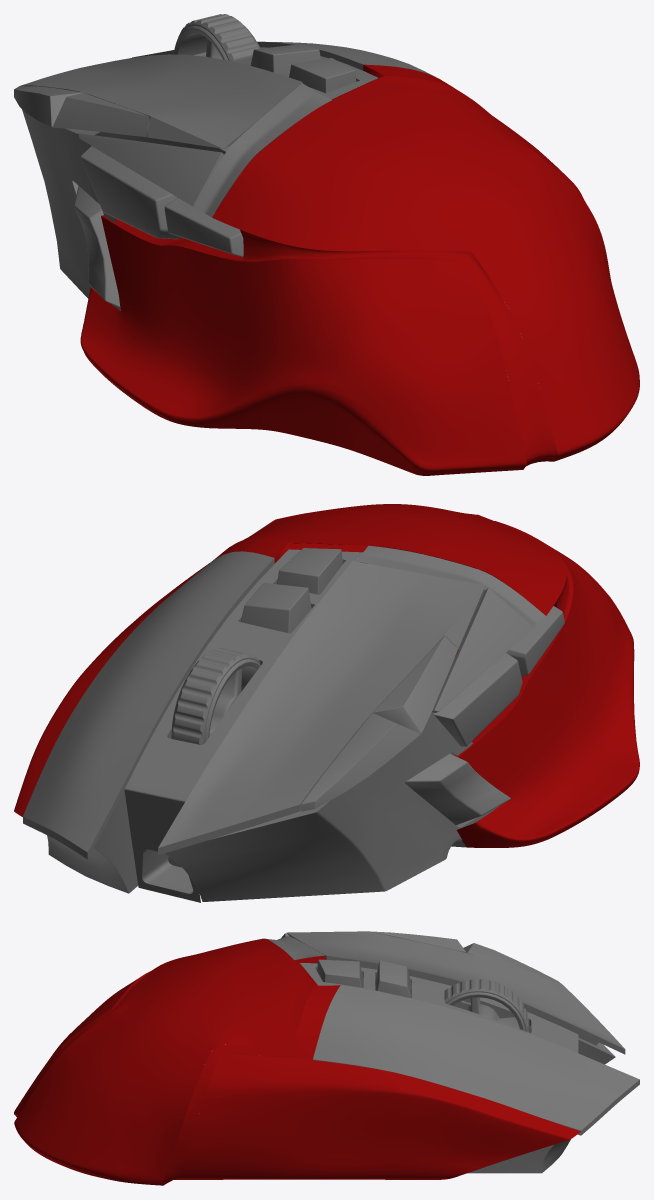
3 views of the same model, one above another, from view 1: azimuth 30°, elevation 25°; view 2: azimuth 150°, elevation 25°; view 3: azimuth 270°, elevation 25° (orthographic). The views are drawn at different scales.
Visible parts, largest first — view 1: Line005_Retopo, Object015, Line004, Line006, Box008, Box011, Object013, Button2, Box013, Box012, Object, Box005 (+6 smaller); view 2: Line004, Line005_Retopo, Line006, Line003, Object011, Object015, Box008, Button1, Box013, Box011, Line013, Button2 (+8 smaller); view 3: Object015, Box010, Line003, Line004, Line005_Retopo, Object011, Line013, Object, Box005, Box004, Button1, Button2 (+5 smaller).
Boxes of the visible parts, x1=… form: Line005_Retopo: x1=80, y1=64, x2=585, y2=475; Object015: x1=212, y1=76, x2=639, y2=461; Line004: x1=20, y1=54, x2=302, y2=148; Line006: x1=22, y1=109, x2=120, y2=310; Box008: x1=78, y1=133, x2=223, y2=206; Box011: x1=80, y1=146, x2=179, y2=239; Object013: x1=193, y1=83, x2=331, y2=217; Button2: x1=52, y1=93, x2=149, y2=136; Box013: x1=74, y1=186, x2=120, y2=307; Box012: x1=164, y1=198, x2=243, y2=257; Object: x1=176, y1=14, x2=259, y2=61; Box005: x1=289, y1=58, x2=356, y2=102; Line004: x1=158, y1=560, x2=485, y2=855; Line005_Retopo: x1=206, y1=521, x2=639, y2=847; Line006: x1=165, y1=712, x2=499, y2=901; Line003: x1=23, y1=551, x2=274, y2=859; Object011: x1=124, y1=549, x2=362, y2=902; Object015: x1=243, y1=504, x2=566, y2=615; Box008: x1=432, y1=587, x2=533, y2=712; Button1: x1=301, y1=713, x2=420, y2=811; Box013: x1=405, y1=753, x2=510, y2=825; Box011: x1=433, y1=653, x2=522, y2=746; Line013: x1=47, y1=790, x2=138, y2=893; Button2: x1=373, y1=636, x2=457, y2=733; Object015: x1=14, y1=938, x2=314, y2=1185; Box010: x1=174, y1=1054, x2=580, y2=1179; Line003: x1=313, y1=985, x2=639, y2=1135; Line004: x1=286, y1=931, x2=625, y2=1054; Line005_Retopo: x1=14, y1=955, x2=340, y2=1184; Object011: x1=300, y1=963, x2=578, y2=1052; Line013: x1=468, y1=1139, x2=570, y2=1173; Object: x1=444, y1=979, x2=528, y2=1032; Box005: x1=317, y1=959, x2=363, y2=987; Box004: x1=375, y1=960, x2=411, y2=998; Button1: x1=463, y1=943, x2=563, y2=985; Button2: x1=368, y1=931, x2=466, y2=952.
Bounding box in the file's own units: 2.86 × 1.51 × 5.19.
